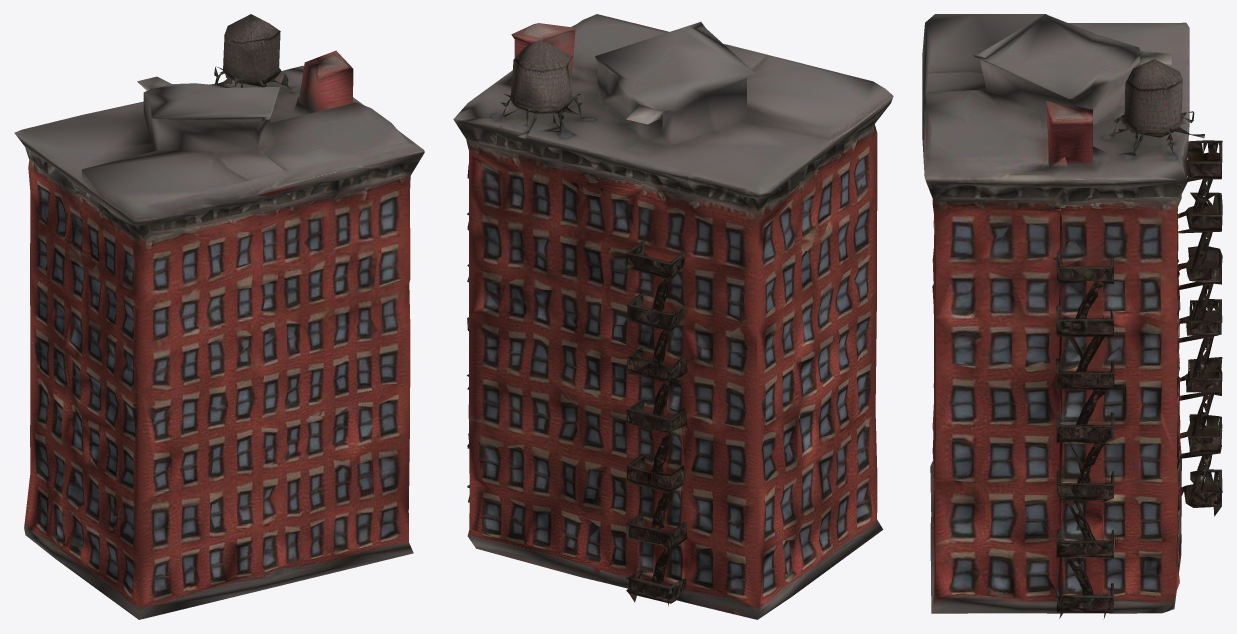
Rendered from bld0_lo.glb.
The picture shows the model from 3 angles, left to right: view 1: azimuth 30°, elevation 25°; view 2: azimuth 150°, elevation 25°; view 3: azimuth 270°, elevation 25°; orthographic projection. The views are drawn at different scales.
Parts seen in each view (by area): view 1: tripo_node_40532de7-2499-4c81-bf49-64029220e87e; view 2: tripo_node_40532de7-2499-4c81-bf49-64029220e87e; view 3: tripo_node_40532de7-2499-4c81-bf49-64029220e87e.
Part boxes in pixels (x1=…): tripo_node_40532de7-2499-4c81-bf49-64029220e87e: x1=14, y1=14, x2=424, y2=619; tripo_node_40532de7-2499-4c81-bf49-64029220e87e: x1=453, y1=14, x2=893, y2=619; tripo_node_40532de7-2499-4c81-bf49-64029220e87e: x1=922, y1=14, x2=1222, y2=619.
Size of the model in its own units: 0.6749 by 0.9943 by 0.5181.
1 material, 1 textured.
